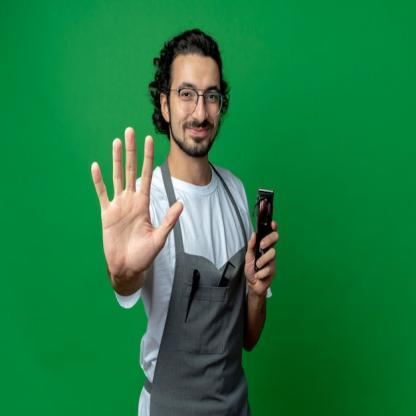stop: (88, 124, 186, 284)
